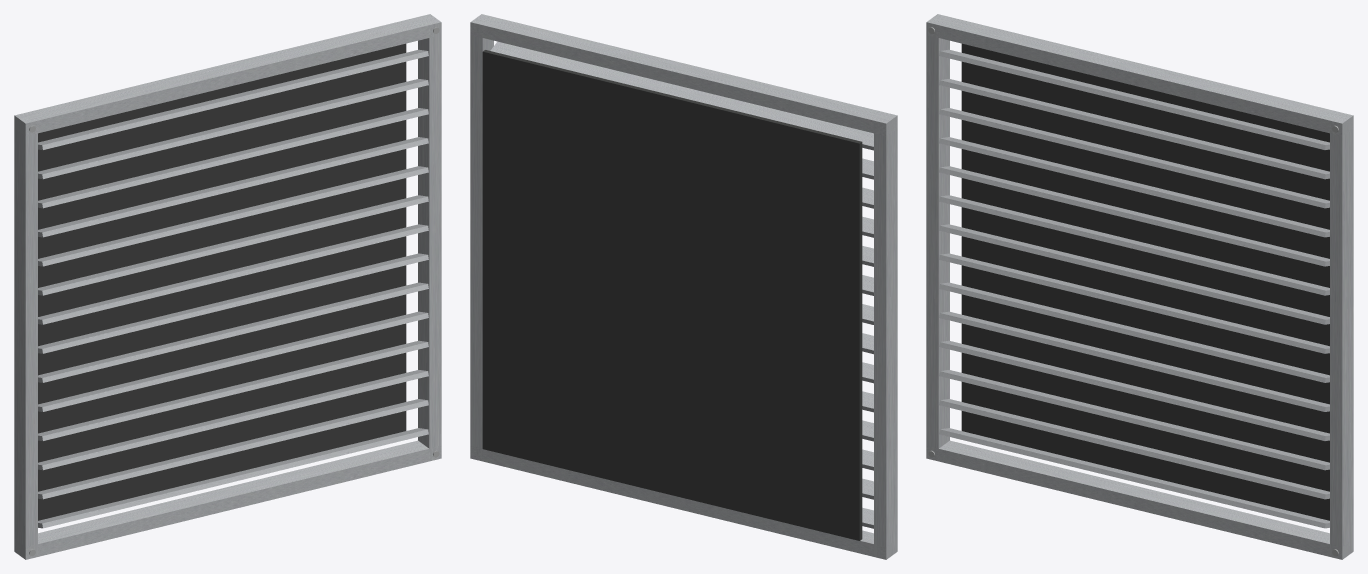
The model's file is ceiling_vent.glb.
3 views of the same model, side by side, from view 1: azimuth 30°, elevation 25°; view 2: azimuth 150°, elevation 25°; view 3: azimuth 330°, elevation 25° (orthographic).
Visible parts, largest first — view 1: Dark recessed backing, Straight horizontal frame.001, Straight vertical frame, Straight horizontal frame, Straight vertical frame.001, Evenly spaced louver 11, Evenly spaced louver 02, Evenly spaced louver 03, Evenly spaced louver 06, Evenly spaced louver 07, Evenly spaced louver 08, Evenly spaced louver 01 (+7 smaller); view 2: Dark recessed backing, Straight horizontal frame.001, Straight vertical frame, Straight vertical frame.001, Straight horizontal frame, Evenly spaced louver 14; view 3: Dark recessed backing, Straight horizontal frame.001, Straight vertical frame.001, Straight horizontal frame, Straight vertical frame, Evenly spaced louver 11, Evenly spaced louver 02, Evenly spaced louver 03, Evenly spaced louver 06, Evenly spaced louver 07, Evenly spaced louver 08, Evenly spaced louver 01 (+7 smaller).
Part boxes in pixels (x1,y1,x2,y2): Dark recessed backing: [38, 43, 406, 520]; Straight horizontal frame.001: [14, 14, 441, 135]; Straight vertical frame: [14, 122, 37, 557]; Straight horizontal frame: [14, 440, 441, 559]; Straight vertical frame.001: [418, 23, 441, 460]; Evenly spaced louver 11: [38, 137, 428, 237]; Evenly spaced louver 02: [38, 399, 428, 499]; Evenly spaced louver 03: [38, 370, 428, 470]; Evenly spaced louver 06: [38, 282, 428, 382]; Evenly spaced louver 07: [38, 253, 428, 353]; Evenly spaced louver 08: [38, 224, 428, 324]; Evenly spaced louver 01: [38, 428, 428, 528]; Dark recessed backing: [482, 50, 862, 540]; Straight horizontal frame.001: [470, 14, 897, 136]; Straight vertical frame: [874, 117, 897, 557]; Straight vertical frame.001: [470, 23, 493, 460]; Straight horizontal frame: [470, 446, 897, 559]; Evenly spaced louver 14: [490, 41, 873, 150]; Dark recessed backing: [961, 43, 1329, 520]; Straight horizontal frame.001: [926, 14, 1353, 136]; Straight vertical frame.001: [1330, 122, 1353, 557]; Straight horizontal frame: [926, 440, 1353, 559]; Straight vertical frame: [926, 23, 949, 460]; Evenly spaced louver 11: [939, 137, 1329, 237]; Evenly spaced louver 02: [939, 399, 1329, 499]; Evenly spaced louver 03: [939, 370, 1329, 470]; Evenly spaced louver 06: [939, 282, 1329, 382]; Evenly spaced louver 07: [939, 253, 1329, 353]; Evenly spaced louver 08: [939, 224, 1329, 324]; Evenly spaced louver 01: [939, 428, 1329, 528].
Size of the model in its own units: 0.75 by 0.752 by 0.065.
Materials: 3 (1 with a texture image).
